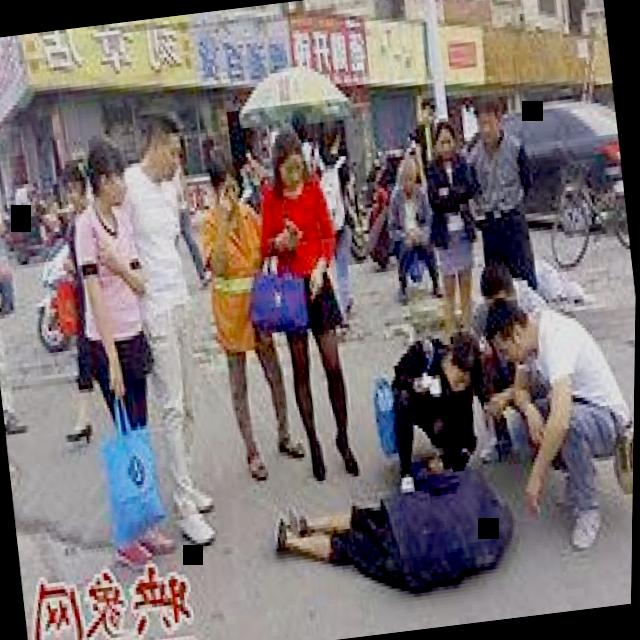Fall-Detected: (263, 438, 536, 606)
